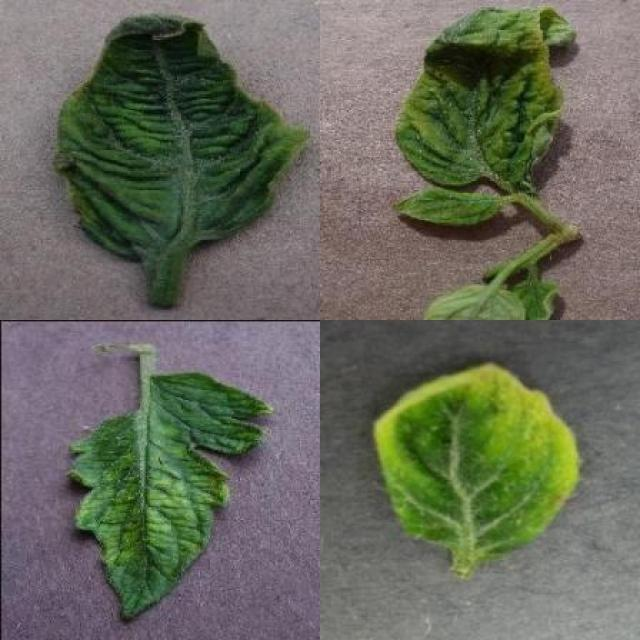Mosaic Virus: (62, 372, 278, 622)
Yellow Leaf Curl Virus: (48, 10, 312, 264), (371, 360, 582, 560), (391, 3, 576, 186), (396, 189, 504, 224)
